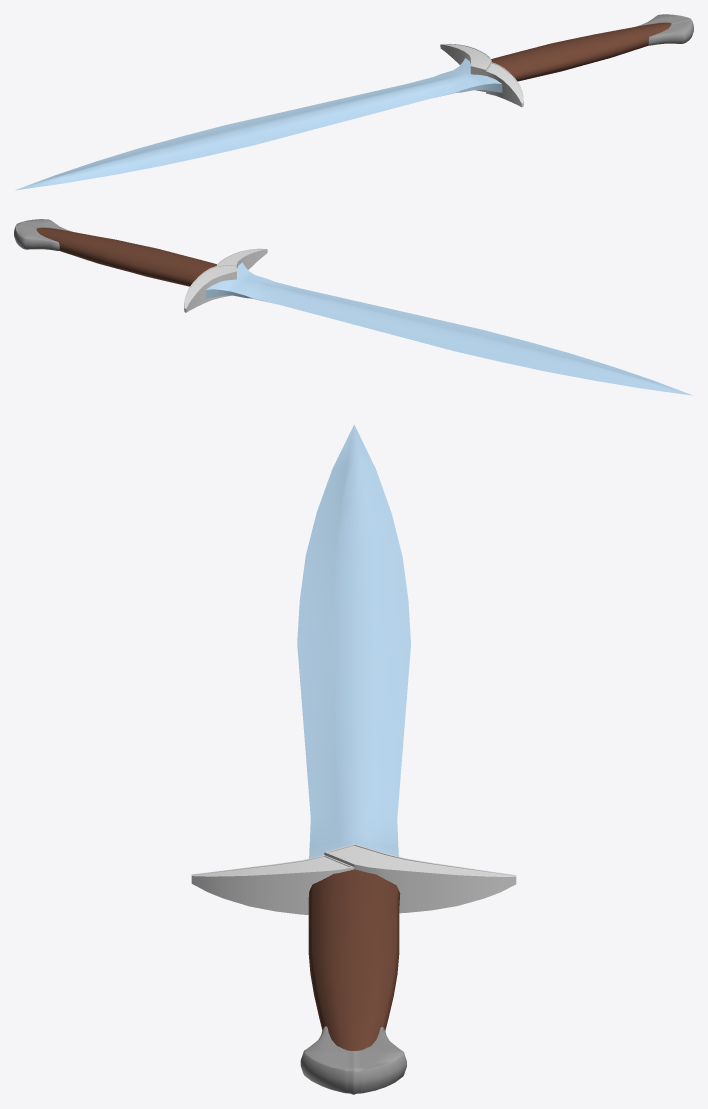
The model's file is Sword_Sting.fbx.
3 views of the same model, one above another, from view 1: azimuth 30°, elevation 25°; view 2: azimuth 150°, elevation 25°; view 3: azimuth 270°, elevation 25° (orthographic). The views are drawn at different scales.
Parts seen in each view (by area): view 1: sting; view 2: sting; view 3: sting.
Part boxes in pixels (left/top/right/bottom): sting: left=15, top=14, right=693, bottom=190; sting: left=14, top=219, right=692, bottom=395; sting: left=191, top=424, right=516, bottom=1094.
Bounding box in the file's own units: 408 × 14.17 × 84.59.
